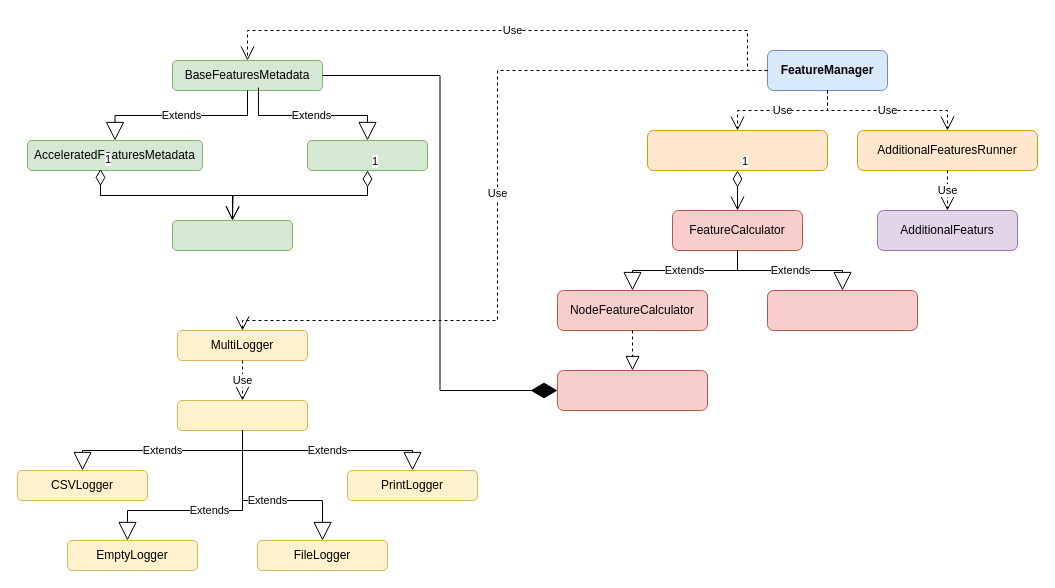
The diagram is 1055 pixels wide and 588 high, and some of its shapes have lost their labels. The box of each missing label's shape, as (x1, y1, x2, y2) in pixels:
BaseLogger: (176, 400, 308, 430)
EdgeFeatureCalculator: (766, 290, 918, 330)
FeatureCalculator Runner: (646, 130, 828, 170)
FeatureMeta: (172, 220, 292, 250)
FeaturesMetadata: (306, 140, 428, 170)
Motif NodeCalculator: (556, 370, 708, 410)
